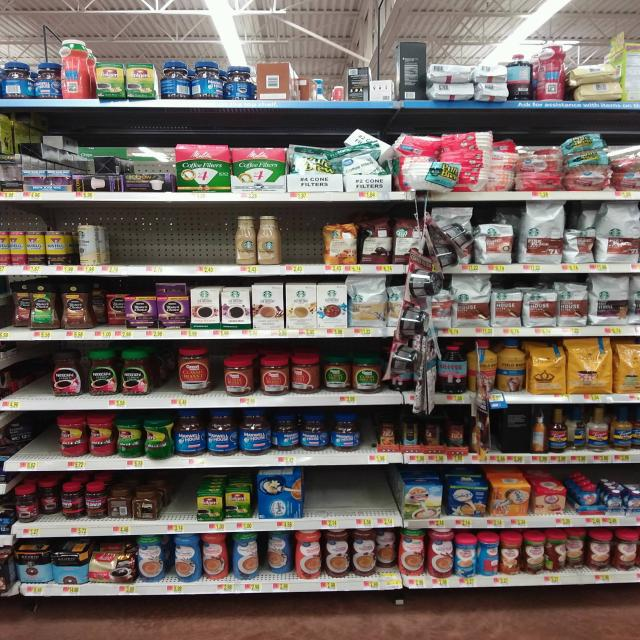void: (7, 415, 56, 473), (8, 347, 48, 412), (299, 54, 342, 112), (205, 207, 235, 285), (138, 209, 168, 279), (288, 213, 319, 280), (366, 467, 397, 533), (172, 208, 202, 276), (164, 481, 196, 535), (616, 41, 640, 109), (336, 468, 362, 530), (109, 215, 133, 276), (155, 344, 176, 412), (310, 471, 333, 532), (476, 408, 492, 464)
